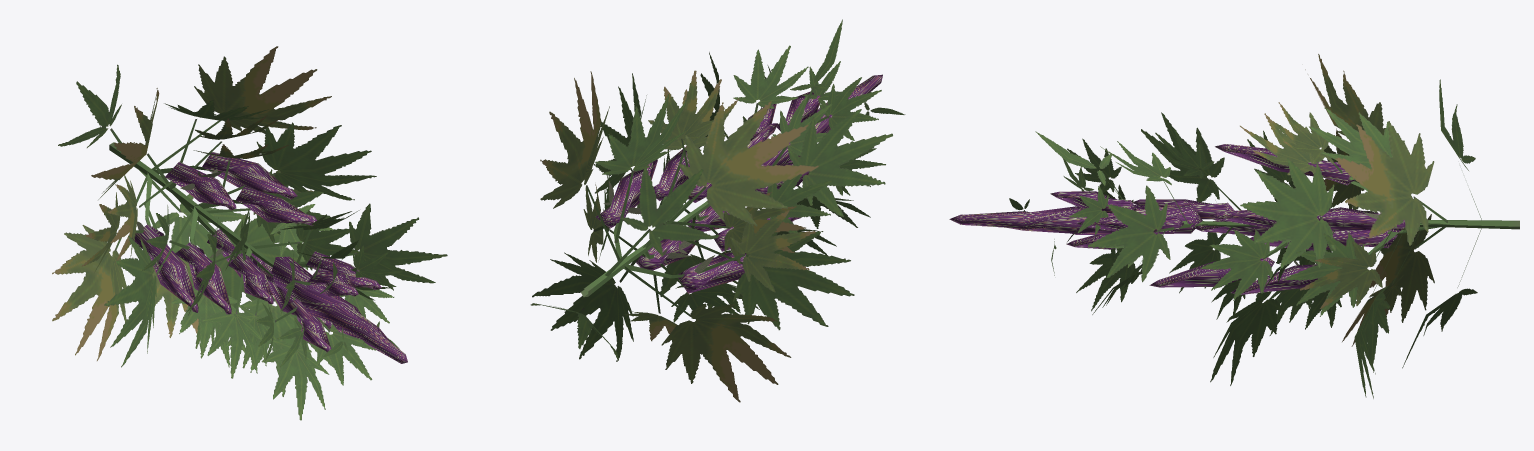
File: p_purple_haze_ripe_c0_cards.obj
The picture shows the model from 3 angles, left to right: view 1: azimuth 30°, elevation 25°; view 2: azimuth 150°, elevation 25°; view 3: azimuth 270°, elevation 25°; orthographic projection. The views are drawn at different scales.
Bounding box in the file's own units: 1.33 × 1.35 × 2.03.
Materials: 1 (1 with a texture image).
